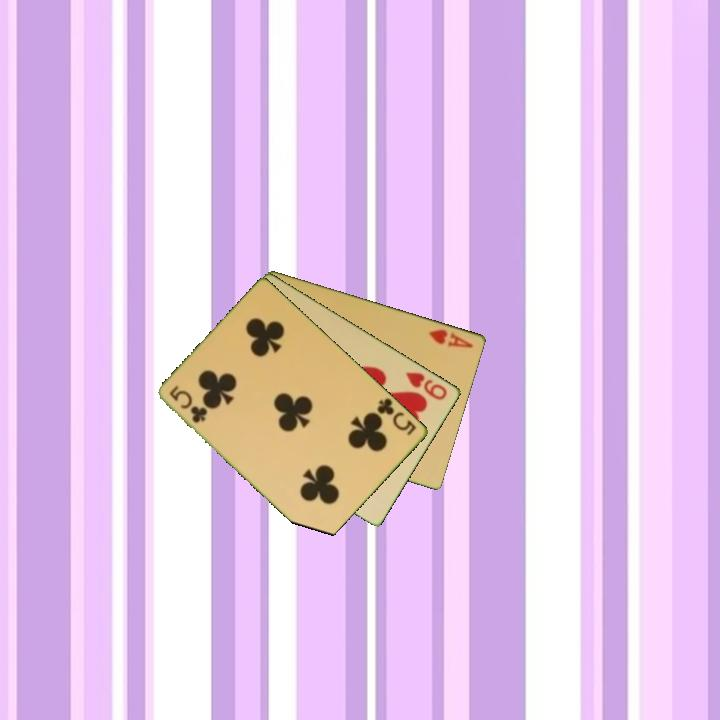5c: (374, 394, 419, 438), (166, 382, 211, 426)
9h: (403, 368, 450, 403)
Ah: (425, 325, 476, 350)
